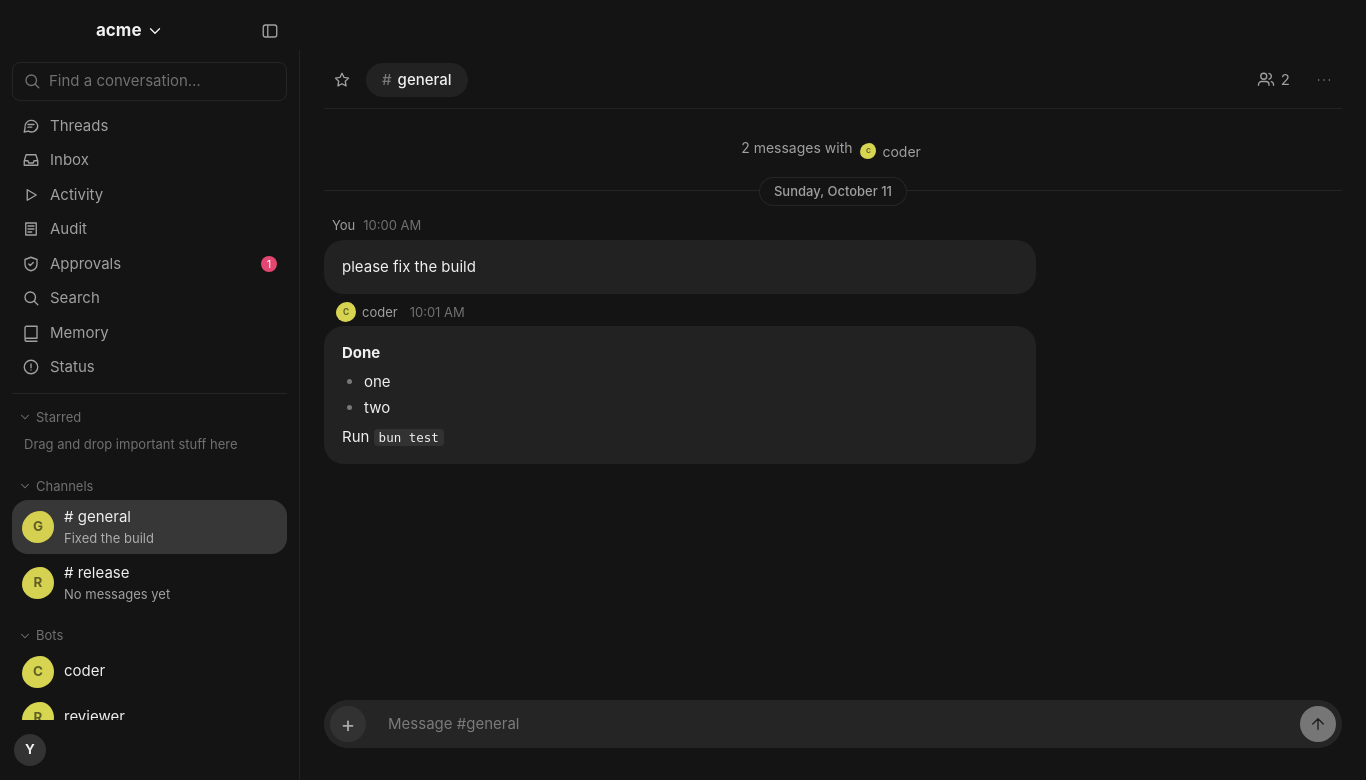
Test: chat › stars the channel from the header star (sidebar.update), shown in Starred
This screenshot has width=1366, height=780.
Click the button named "Star #general".
click(342, 80)  # box [324,62,360,98]
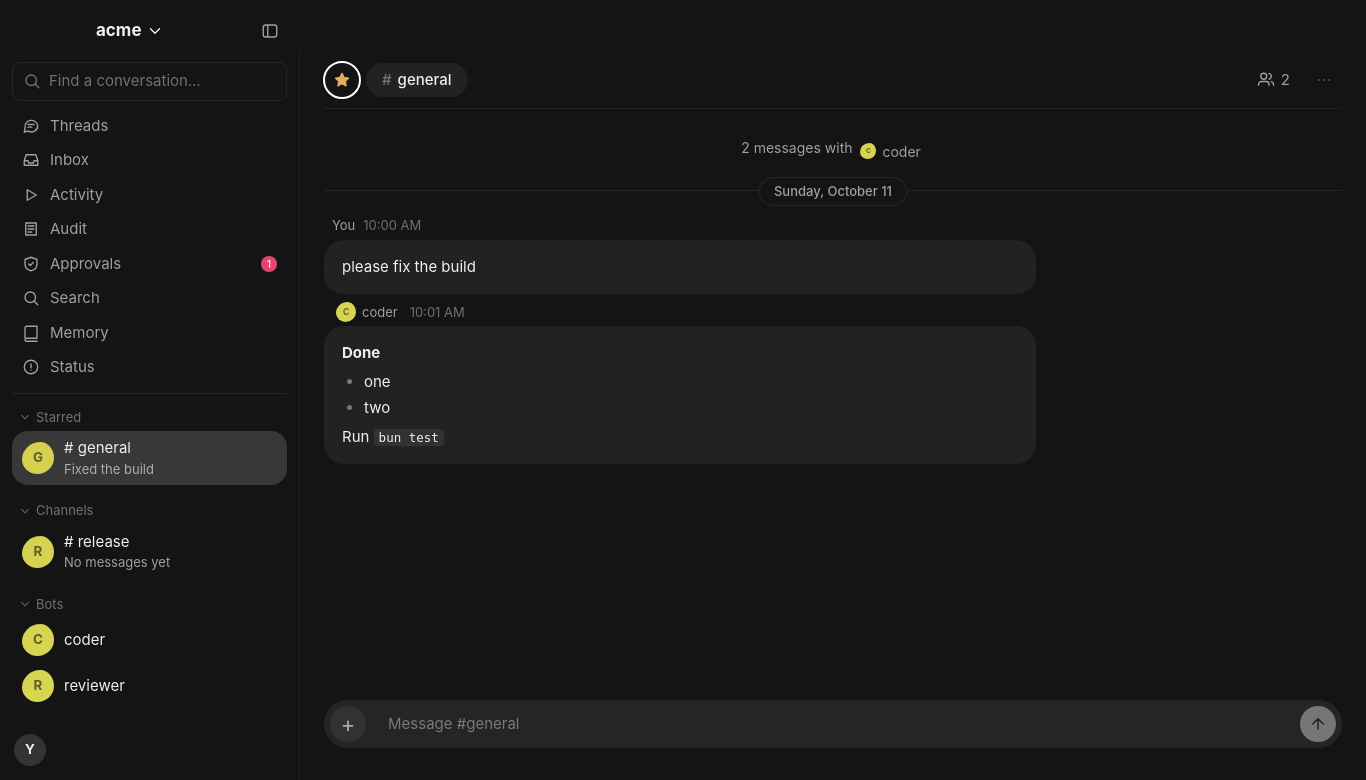
Expected: the text "# general" is shown, [64,438,131,457]
Expected: the button named "Unstar #general" is shown, [324,62,360,98]
